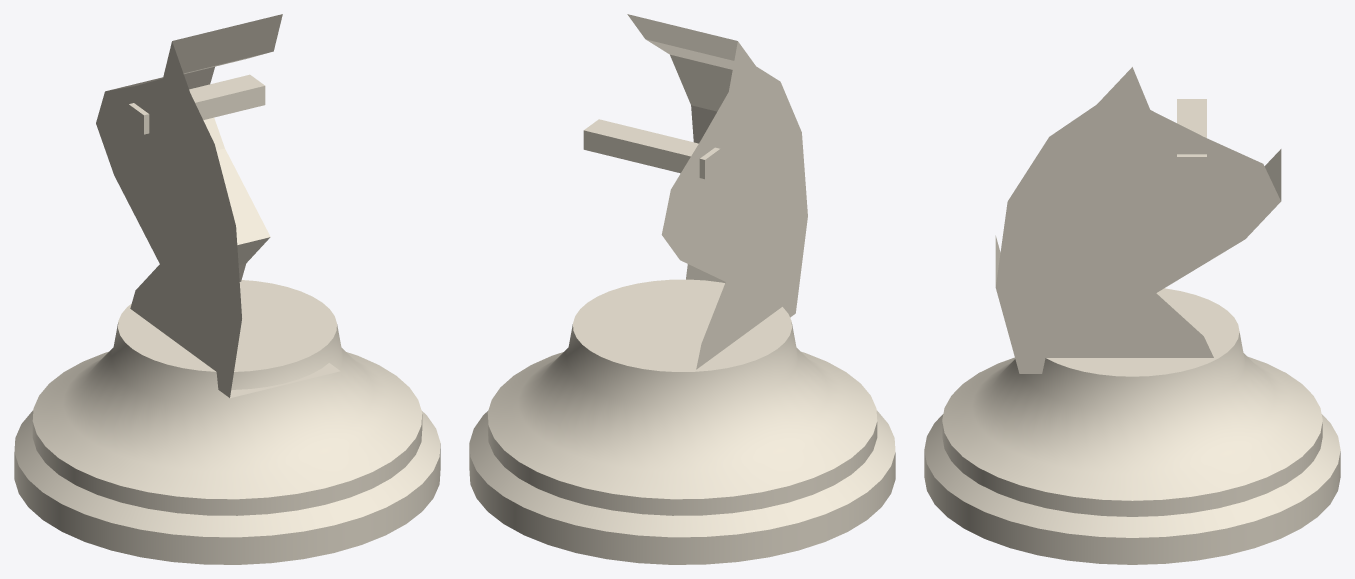
The model's file is WhiteKnight.glb.
3 views of the same model, side by side, from view 1: azimuth 30°, elevation 25°; view 2: azimuth 150°, elevation 25°; view 3: azimuth 270°, elevation 25° (orthographic). The views are drawn at different scales.
Parts seen in each view (by area): view 1: WhiteKnight; view 2: WhiteKnight; view 3: WhiteKnight.
Boxes of the visible parts, x1,y1,x2,y2 form: WhiteKnight: [14, 14, 440, 564]; WhiteKnight: [469, 14, 895, 564]; WhiteKnight: [924, 67, 1340, 564].
Size of the model in its own units: 0.7 by 0.81 by 0.7.
